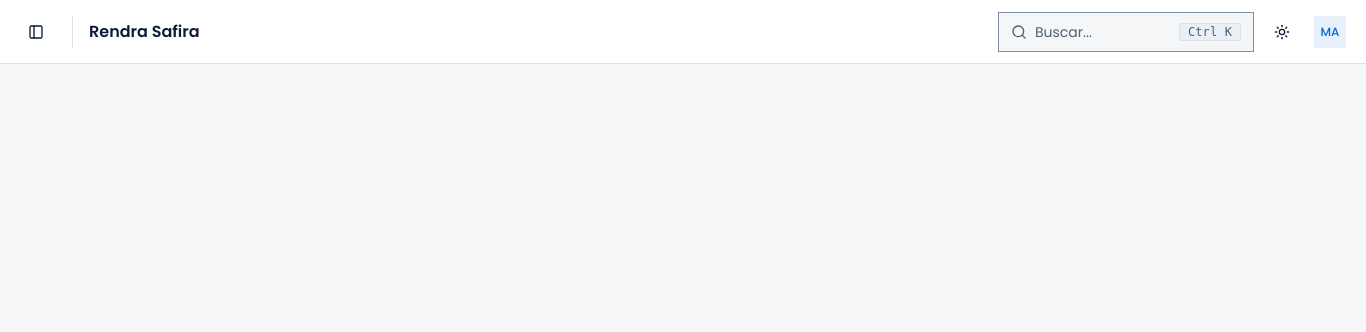
Test: Header › mostra os itens de userMenuItems (prop), não um literal fixo
What coordinates should you click on to do the following:
click the button with aria-label "Menu de Marina Alves"
I would click on:
 (1330, 32)
Its box is [1310, 12, 1350, 52].
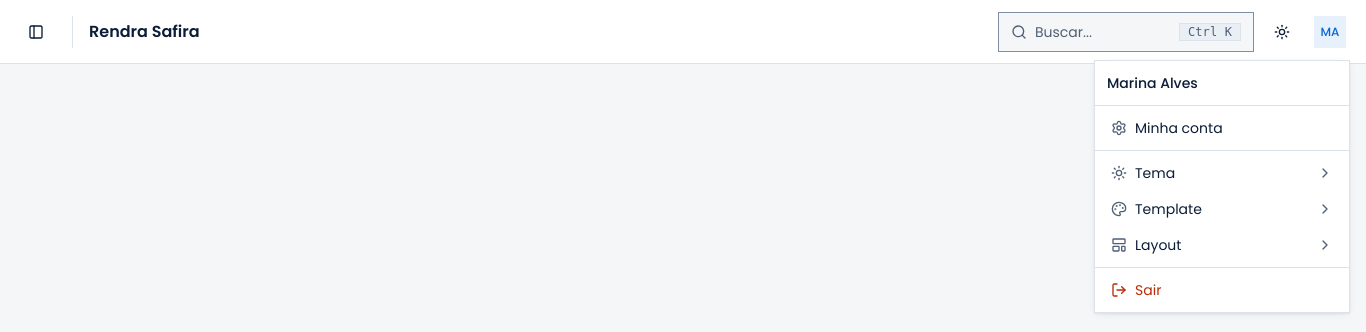
Expected: the menu item "Minha conta" is shown, [1111, 118, 1223, 138]
